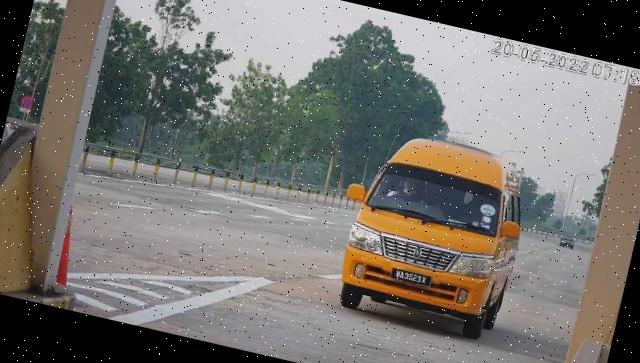License_Plate: (388, 266, 434, 291)
van: (333, 125, 540, 346)
